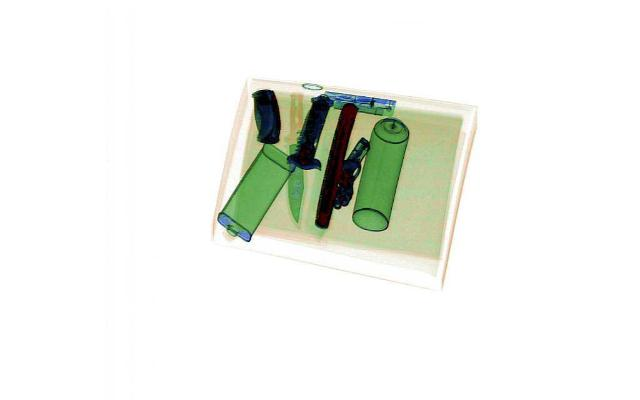Gun: (321, 135, 377, 209)
Knife: (282, 93, 338, 169), (251, 87, 281, 143), (284, 143, 304, 221)
